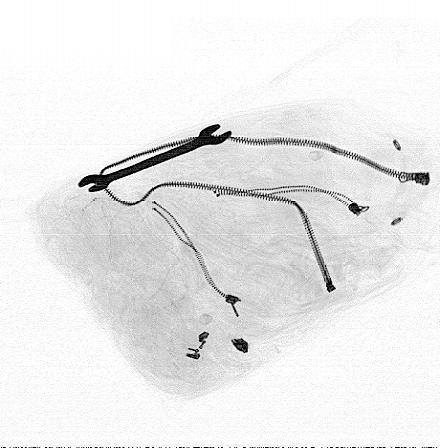Wrench: (79, 123, 234, 190)
